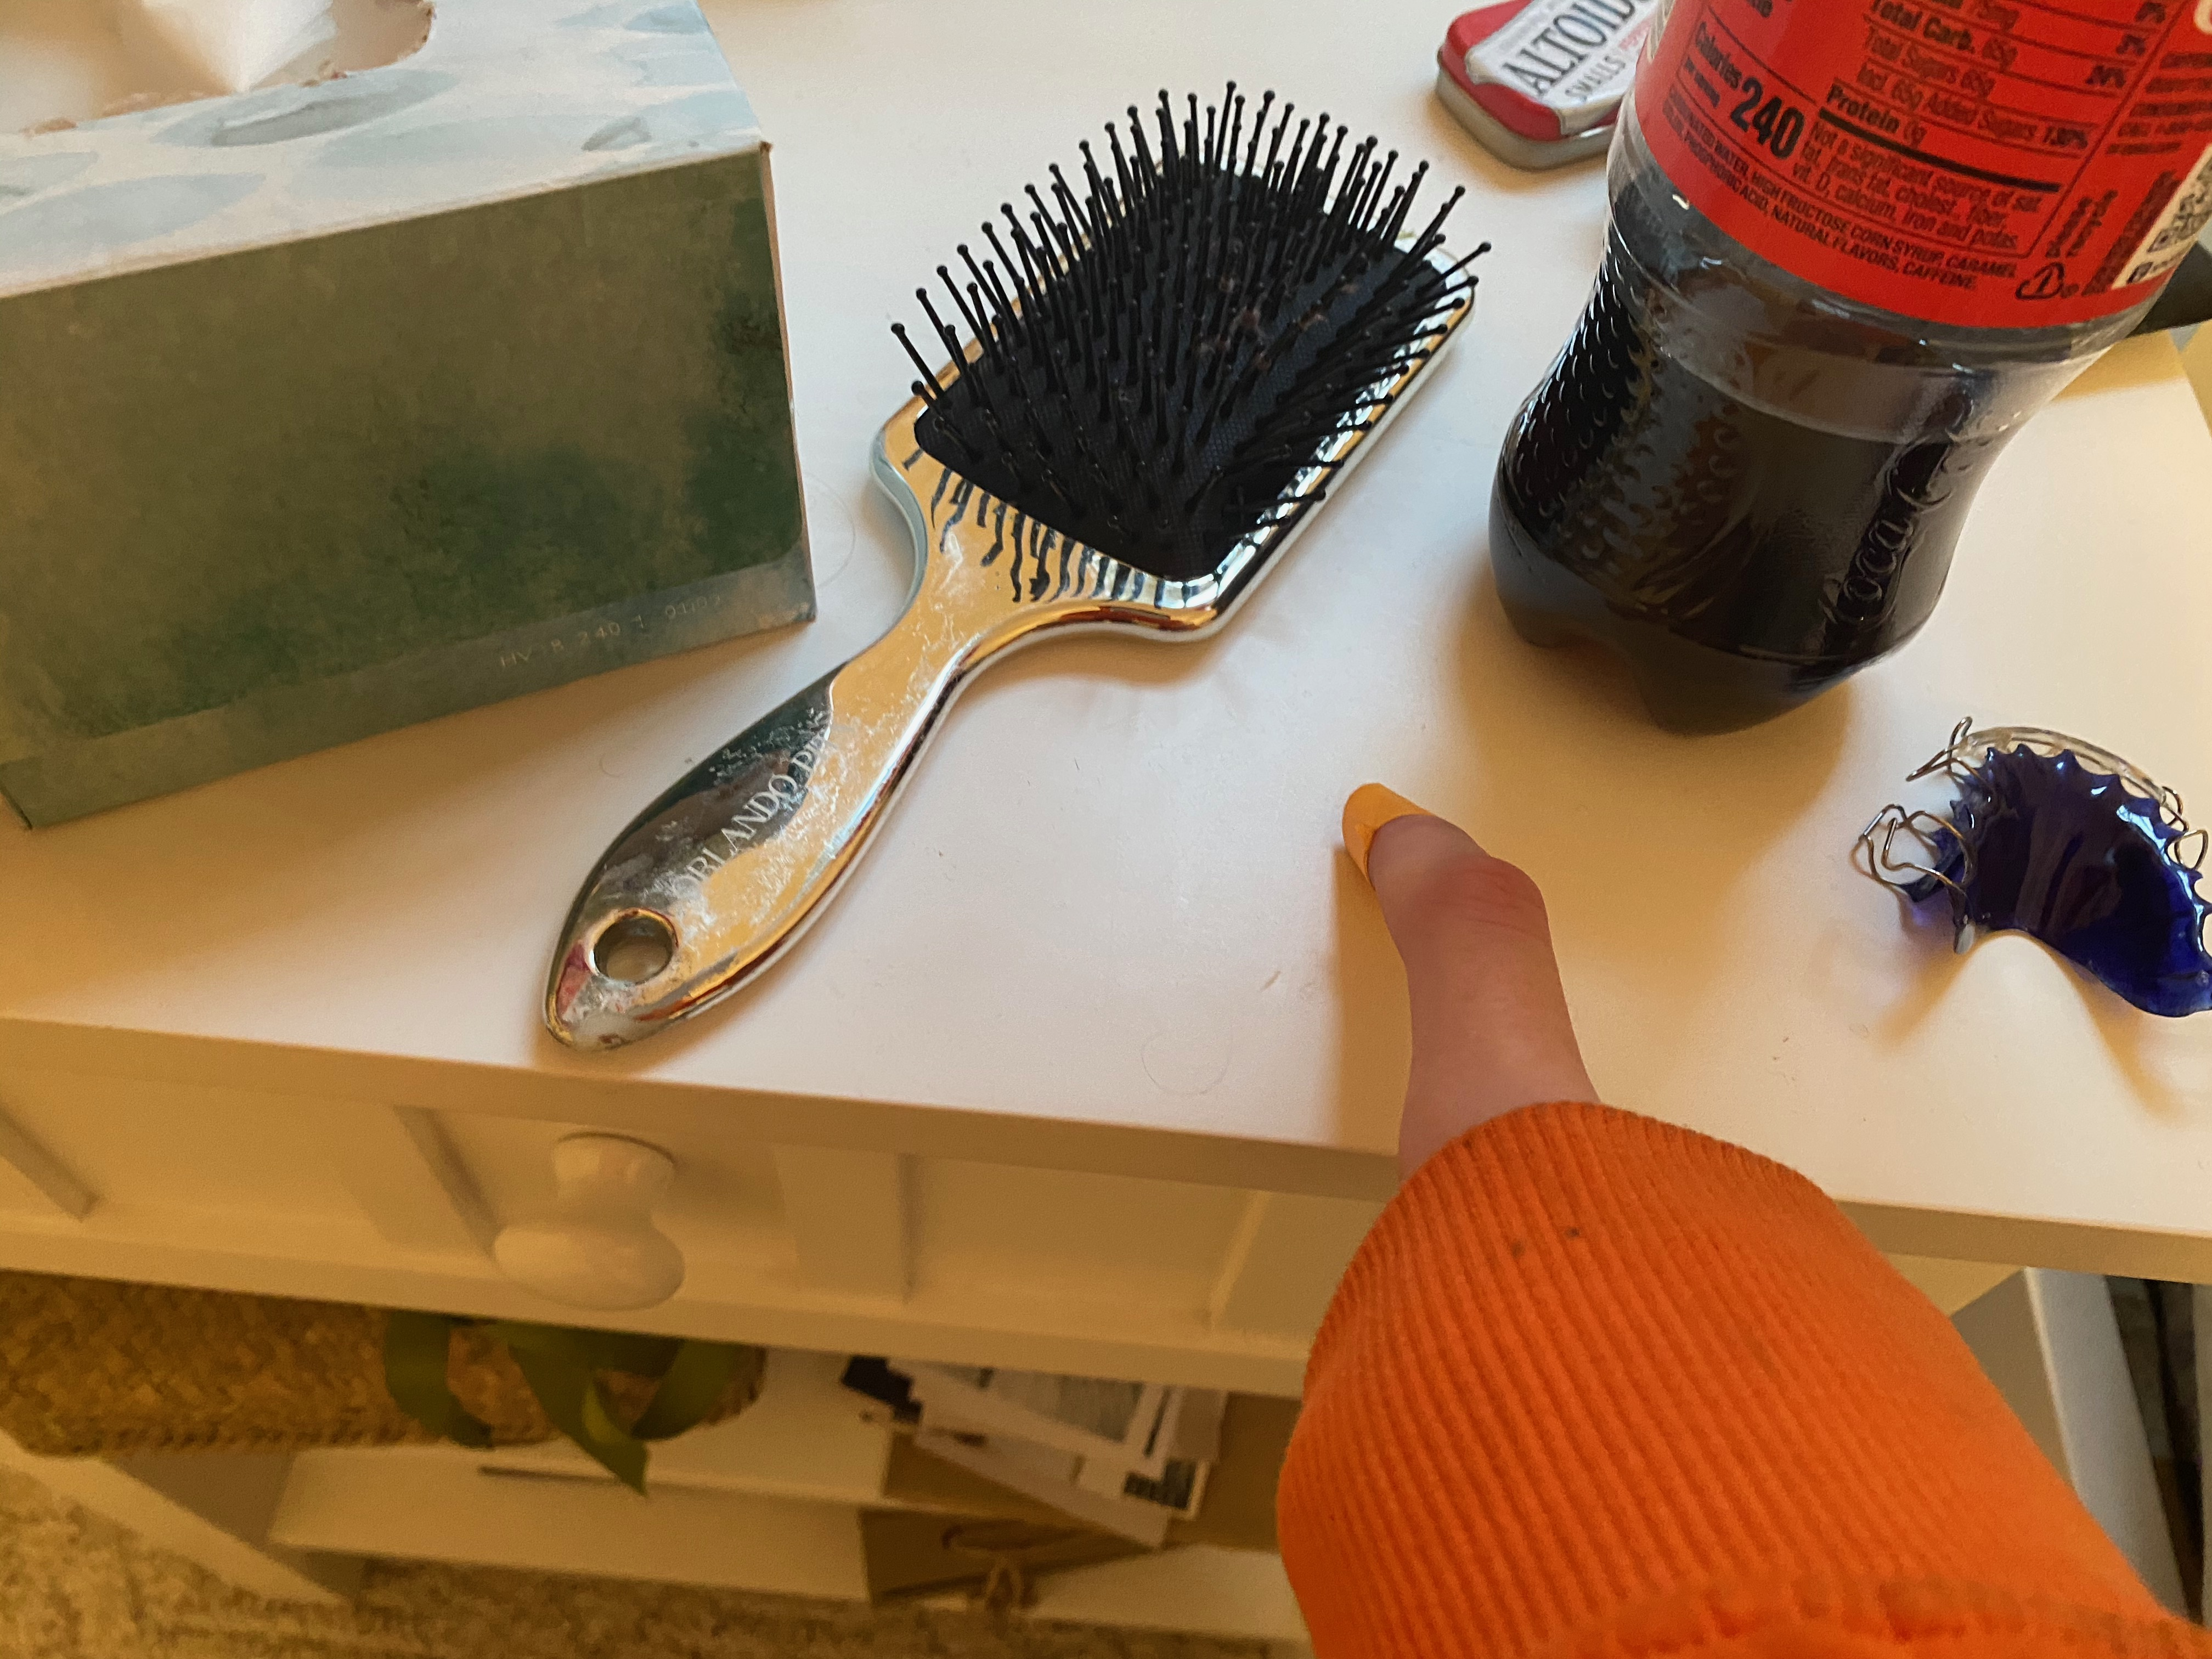fingertip: (1315, 762, 1477, 925)
